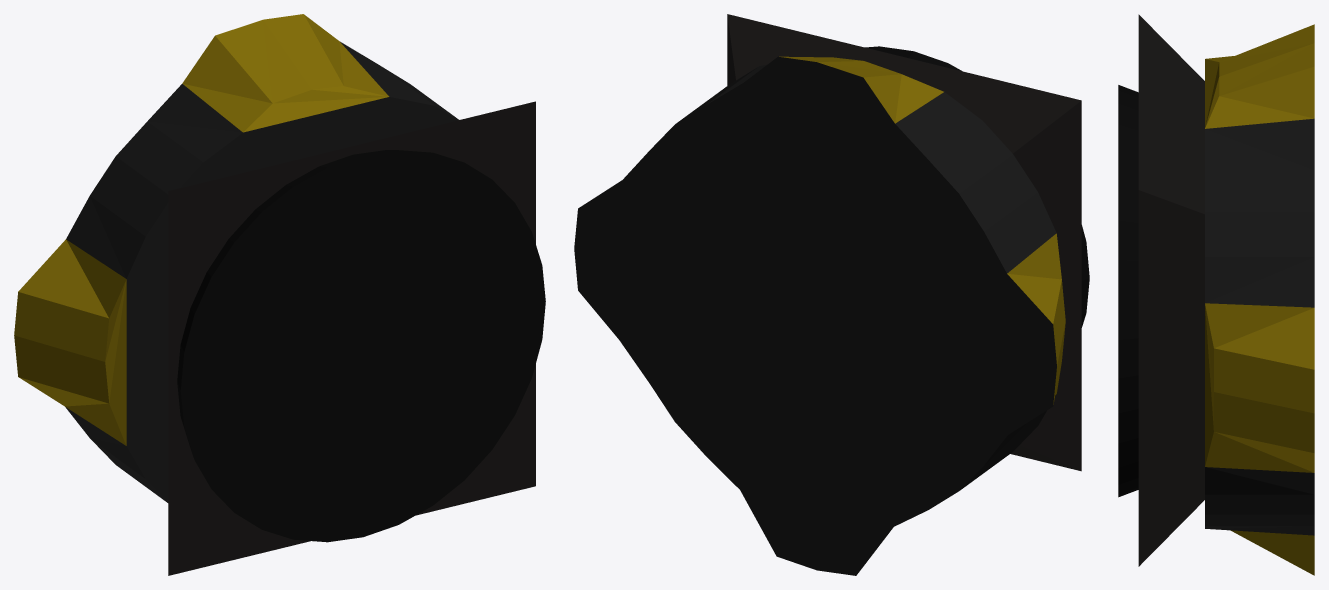
Rendered from sniper.obj.
3 renders of one model, left to right at view 1: azimuth 30°, elevation 25°; view 2: azimuth 150°, elevation 25°; view 3: azimuth 270°, elevation 25°, orthographic. The views are drawn at different scales.
Visible parts, largest first — view 1: Circle.003; view 2: Circle.003; view 3: Circle.003.
Part boxes in pixels (<box>): Circle.003: <box>14,14,545,575</box>; Circle.003: <box>574,14,1089,575</box>; Circle.003: <box>1118,14,1314,575</box>.
Bounding box in the file's own units: 2.1 × 2.12 × 0.7291.
